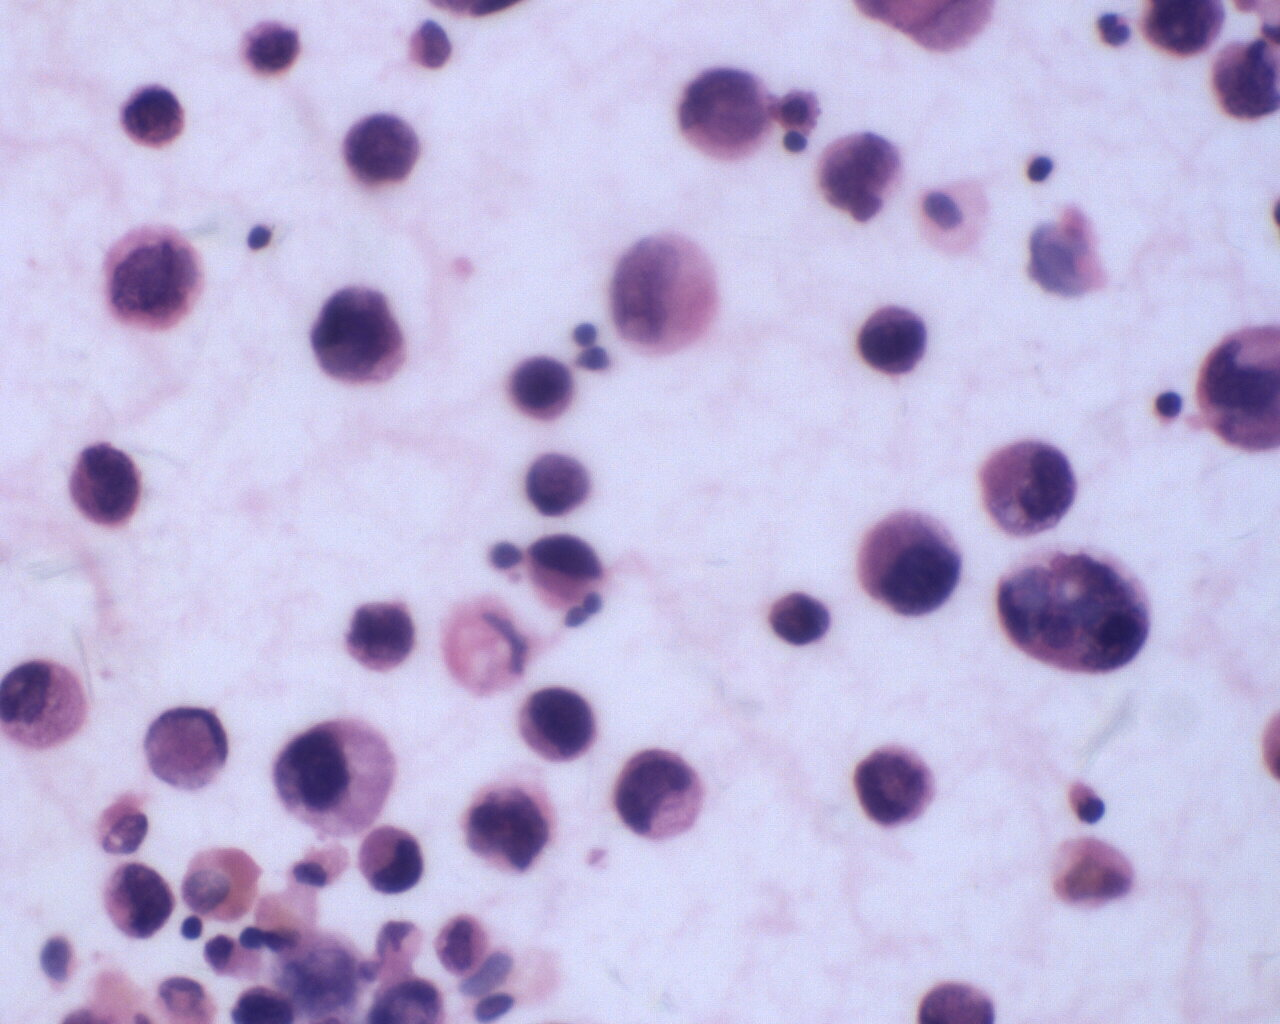ab: (990, 538, 1154, 678), (271, 714, 400, 839), (857, 494, 964, 621), (101, 219, 209, 338), (304, 282, 418, 391), (971, 438, 1085, 543), (457, 766, 565, 874), (670, 60, 771, 168), (608, 742, 706, 841), (850, 740, 945, 832), (1, 660, 89, 754), (64, 439, 153, 531), (519, 528, 611, 612), (512, 678, 599, 766), (94, 858, 183, 944), (1200, 32, 1280, 123), (340, 108, 427, 188), (851, 300, 934, 382), (501, 348, 583, 428), (346, 596, 419, 677), (119, 78, 191, 153), (353, 827, 426, 898), (237, 9, 306, 84), (767, 592, 834, 651)
histo: (140, 703, 231, 798)
lymph: (1146, 386, 1189, 422), (240, 220, 280, 255), (1022, 154, 1061, 188)
neutro: (1087, 9, 1132, 50)
